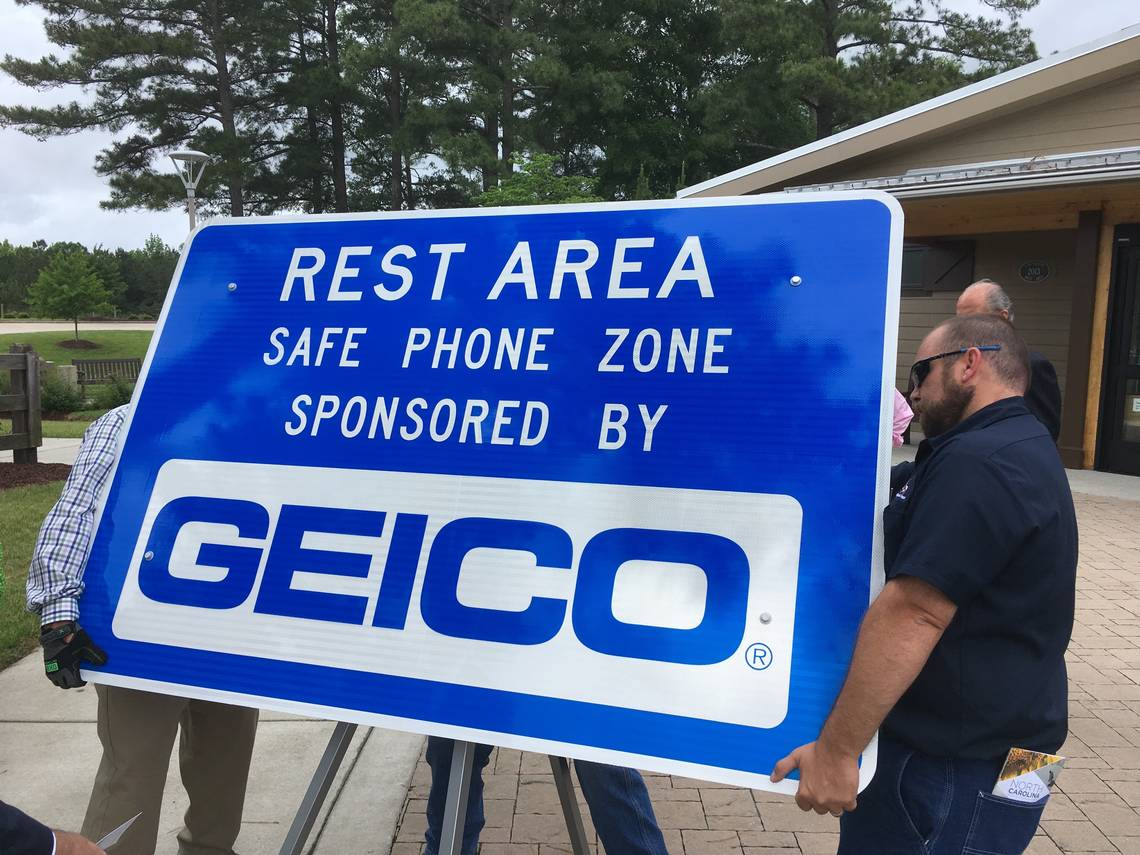geico: (139, 485, 790, 675)
